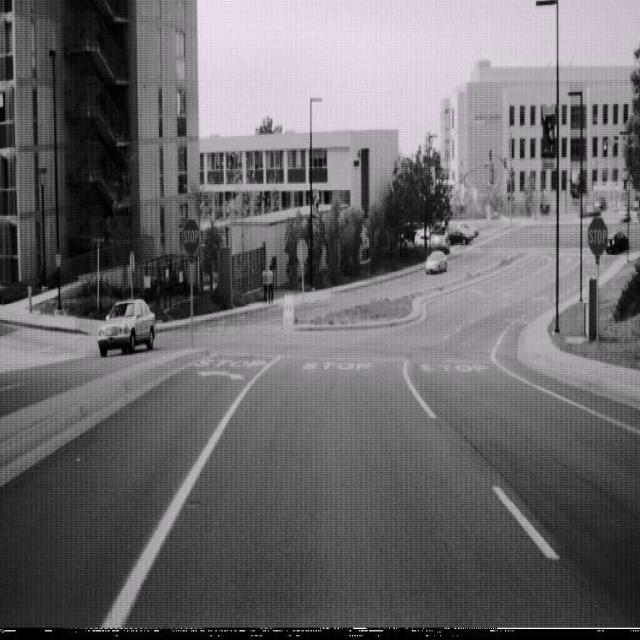stop: (587, 214, 608, 258), (180, 216, 200, 256)
